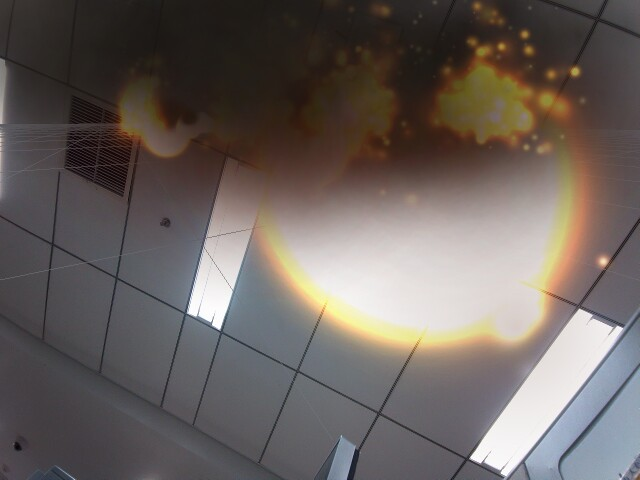fire: (274, 69, 580, 352), (144, 119, 195, 157)
